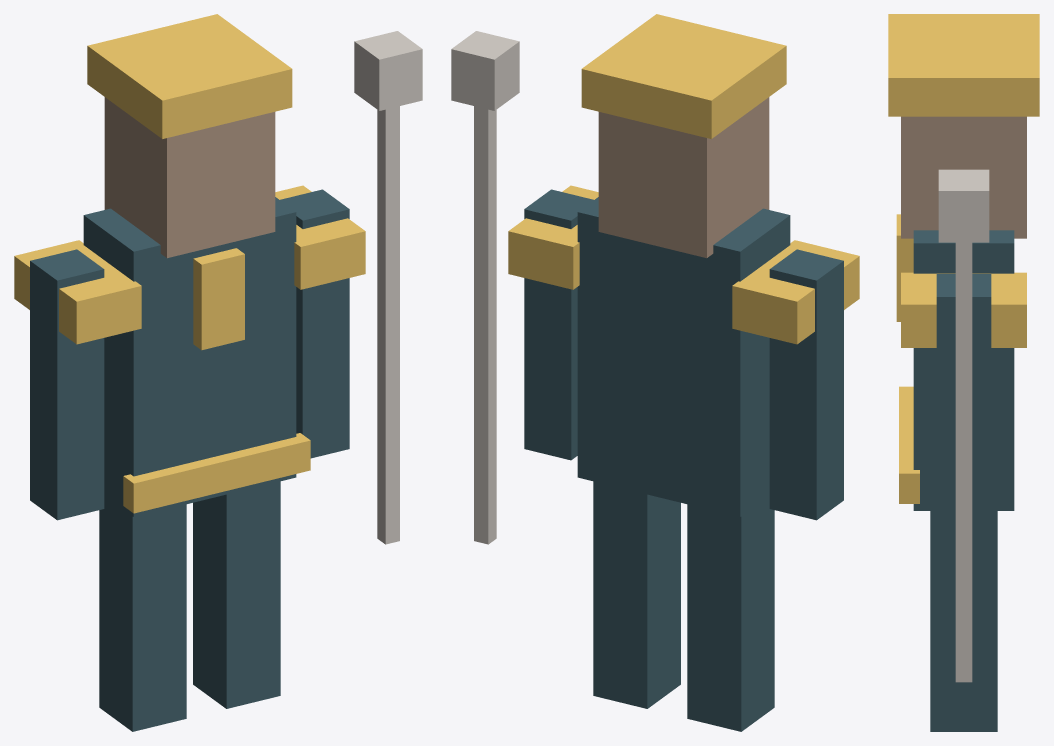
File: 06_maven_voxmere_ranger_near_ranger.glb
3 renders of one model, left to right at view 1: azimuth 30°, elevation 25°; view 2: azimuth 150°, elevation 25°; view 3: azimuth 270°, elevation 25°, orthographic.
Parts seen in each view (by area): view 1: Maven Voxmere, Ranger near Ranger; view 2: Maven Voxmere, Ranger near Ranger; view 3: Maven Voxmere, Ranger near Ranger.
Boxes of the visible parts, x1=… form: Maven Voxmere, Ranger near Ranger: x1=14, y1=14, x2=422, y2=731; Maven Voxmere, Ranger near Ranger: x1=451, y1=14, x2=859, y2=731; Maven Voxmere, Ranger near Ranger: x1=888, y1=14, x2=1039, y2=731.
Bounding box in the file's own units: 1.02 × 1.71 × 0.3605.
